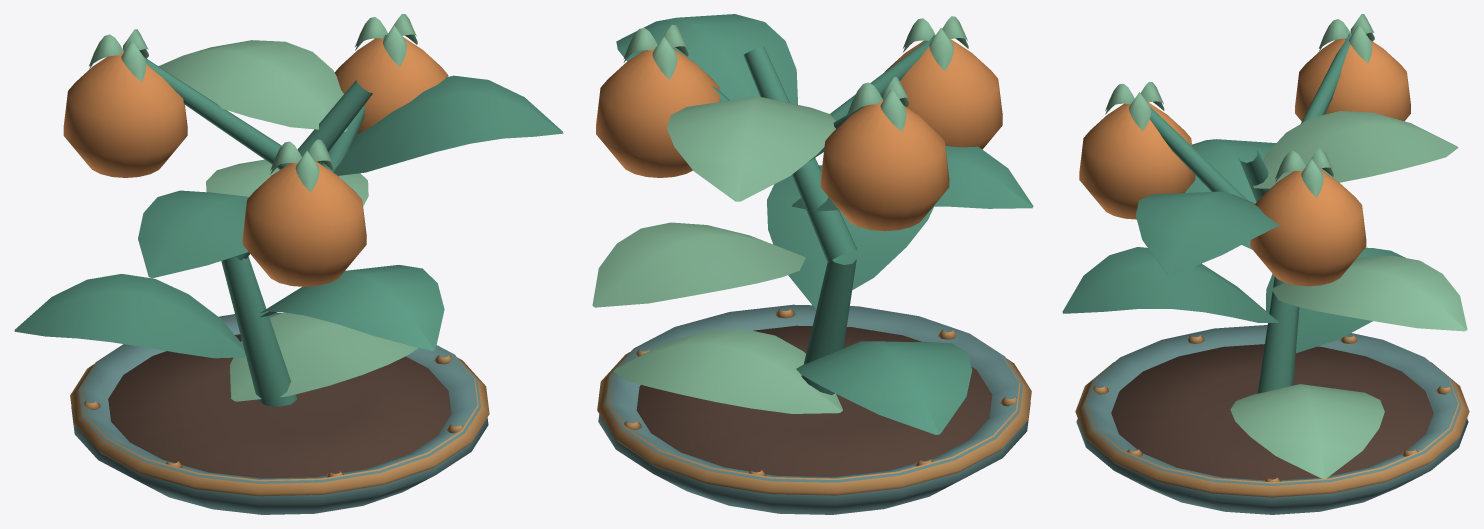
File: ripe.glb
3 renders of one model, left to right at view 1: azimuth 30°, elevation 25°; view 2: azimuth 150°, elevation 25°; view 3: azimuth 270°, elevation 25°, orthographic. The views are drawn at different scales.
Parts seen in each view (by area): view 1: Lantern pear · ripe; view 2: Lantern pear · ripe; view 3: Lantern pear · ripe.
Part boxes in pixels (x1=…): Lantern pear · ripe: x1=14, y1=14, x2=563, y2=514; Lantern pear · ripe: x1=592, y1=14, x2=1033, y2=514; Lantern pear · ripe: x1=1062, y1=14, x2=1469, y2=514.
Size of the model in its own units: 0.8836 by 0.8295 by 0.7891.
